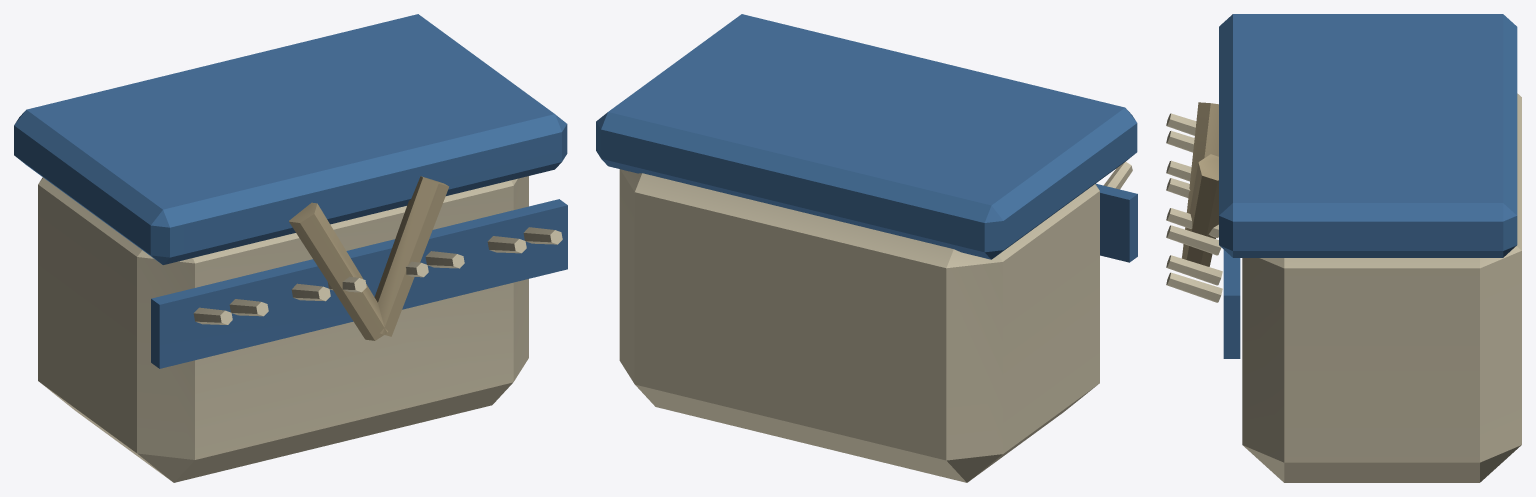
The model's file is sewing_pouch.glb.
3 views of the same model, side by side, from view 1: azimuth 30°, elevation 25°; view 2: azimuth 150°, elevation 25°; view 3: azimuth 270°, elevation 25° (orthographic). The views are drawn at different scales.
Parts seen in each view (by area): view 1: sewing_pouch; view 2: sewing_pouch; view 3: sewing_pouch.
Boxes of the visible parts, x1,y1,x2,y2 form: sewing_pouch: [14, 14, 567, 482]; sewing_pouch: [596, 14, 1137, 482]; sewing_pouch: [1166, 14, 1521, 482].
Bounding box in the file's own units: 0.51 × 0.3525 × 0.3817.
